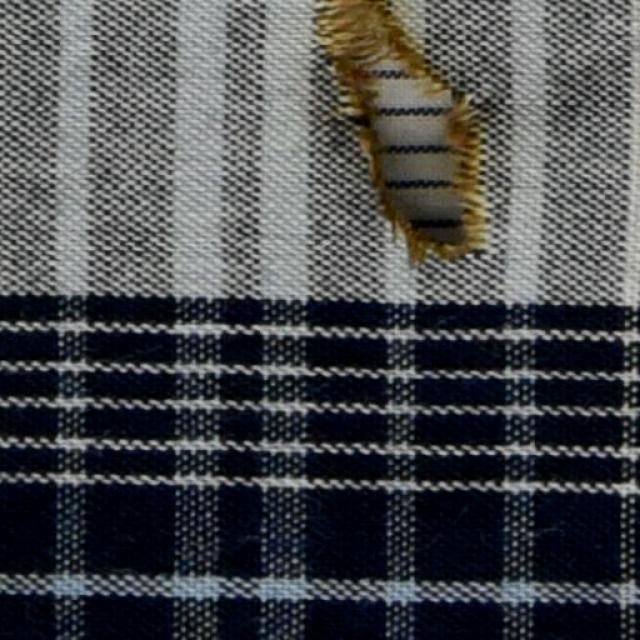Hole: (371, 54, 460, 238)
Stain: (323, 6, 486, 266)
